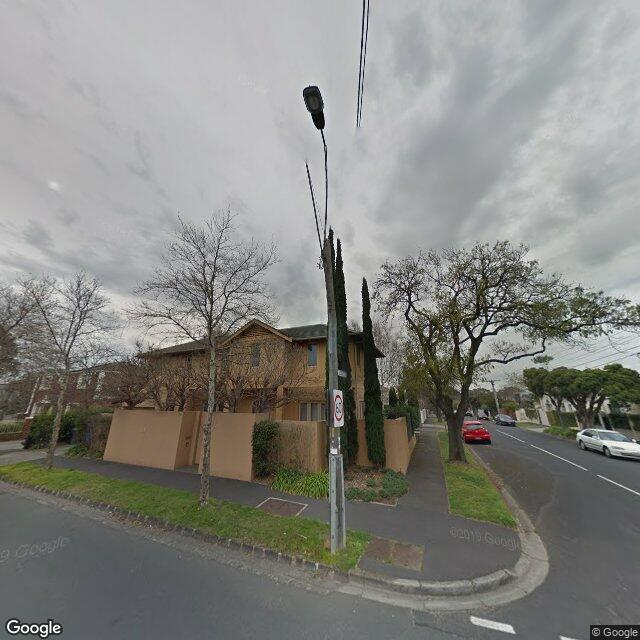streetlight: (302, 86, 329, 261)
timber-pole: (322, 237, 347, 554)
